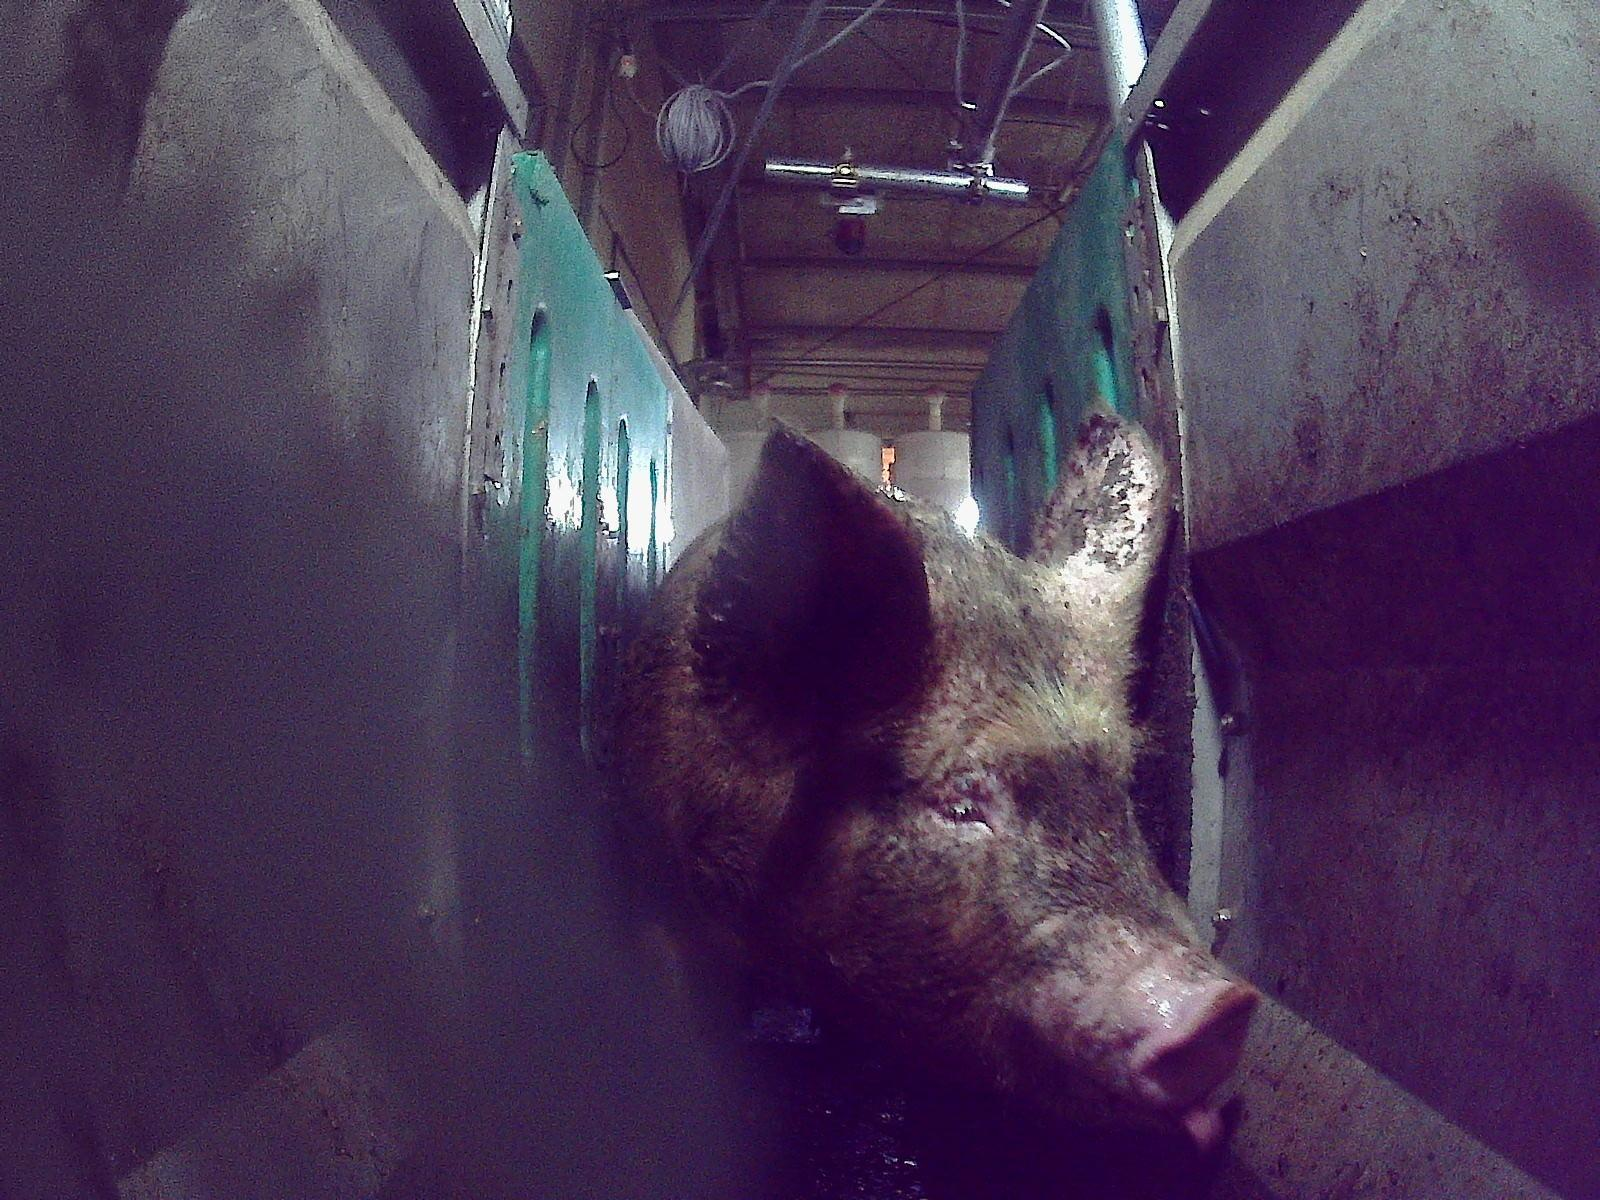Face: (762, 539, 1263, 1156)
